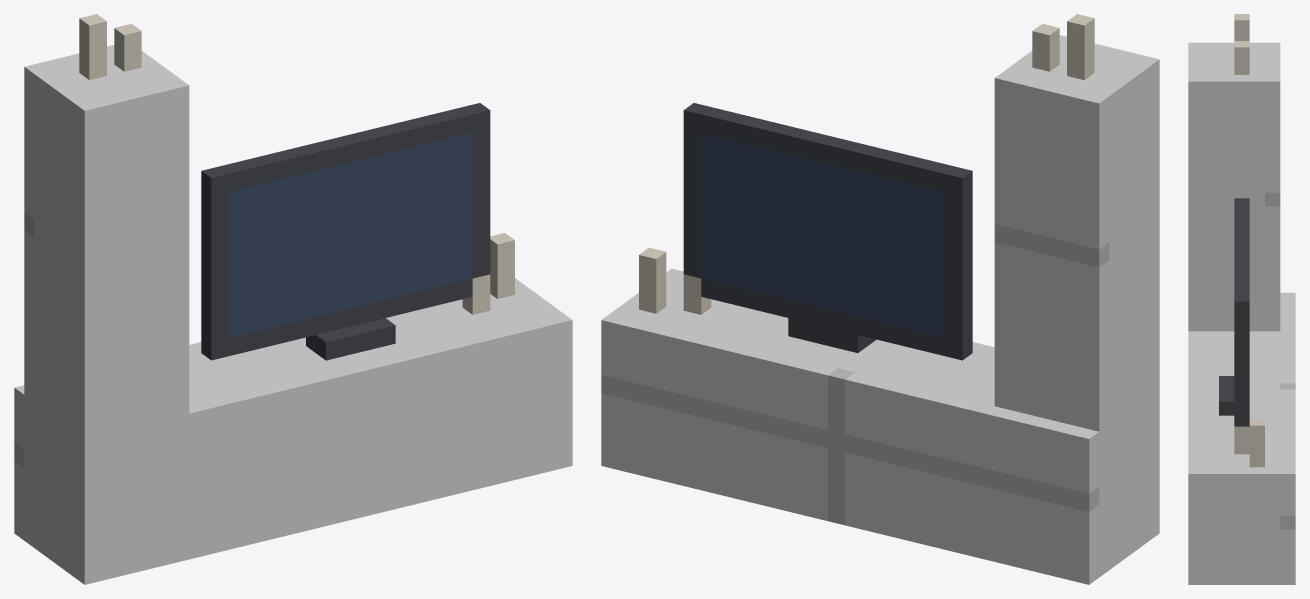
File: meuble_tv.glb
3 views of the same model, side by side, from view 1: azimuth 30°, elevation 25°; view 2: azimuth 150°, elevation 25°; view 3: azimuth 270°, elevation 25° (orthographic). The views are drawn at different scales.
Visible parts, largest first — view 1: main; view 2: main; view 3: main.
Boxes of the visible parts, left/top/right/bottom form: main: left=14, top=14, right=572, bottom=584; main: left=601, top=14, right=1159, bottom=584; main: left=1188, top=14, right=1295, bottom=584.
Size of the model in its own units: 1.75 by 1.81 by 0.4375.
